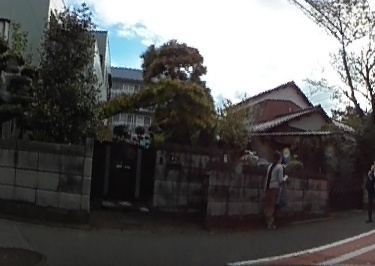person: (262, 150, 284, 225)
